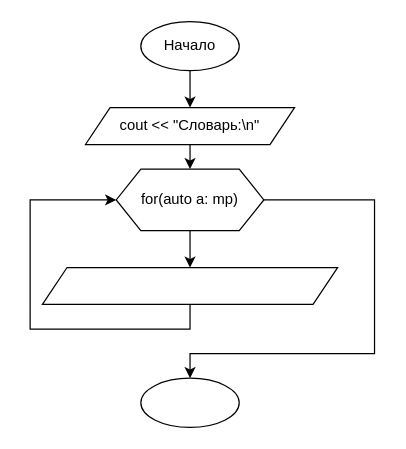
Some shapes in this 406 by 449 pixel diagram are drawn without their labels. Here are the shapes that lost their labels. From the top down, the box of each, then its label:
(41, 266, 338, 304): вывод a.first и a.second.get_data()
(140, 377, 239, 427): конец
